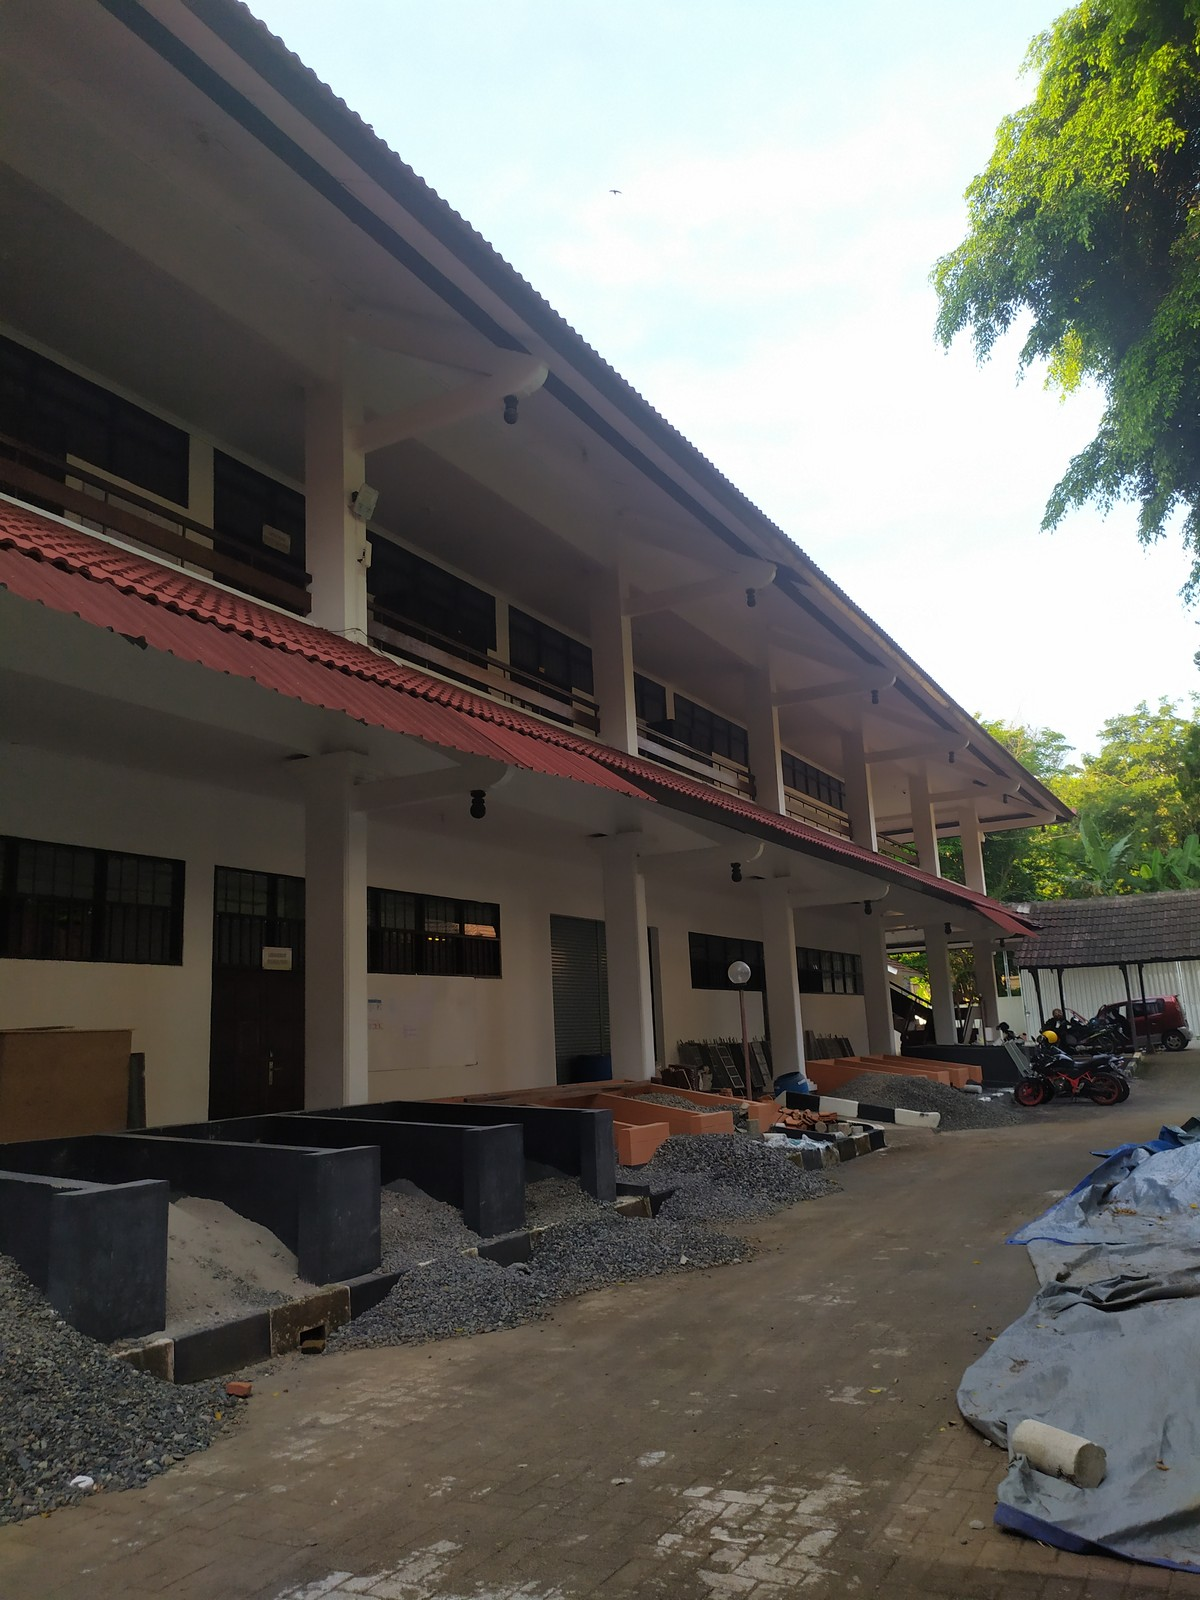concrete beam: (350, 382, 492, 457), (344, 763, 465, 820), (615, 572, 724, 620), (629, 842, 729, 888), (766, 677, 867, 712), (779, 872, 868, 910)
concrete column: (292, 746, 386, 1107), (291, 351, 382, 644), (599, 815, 666, 1083), (577, 551, 650, 757), (760, 881, 816, 1082), (744, 656, 792, 813)
